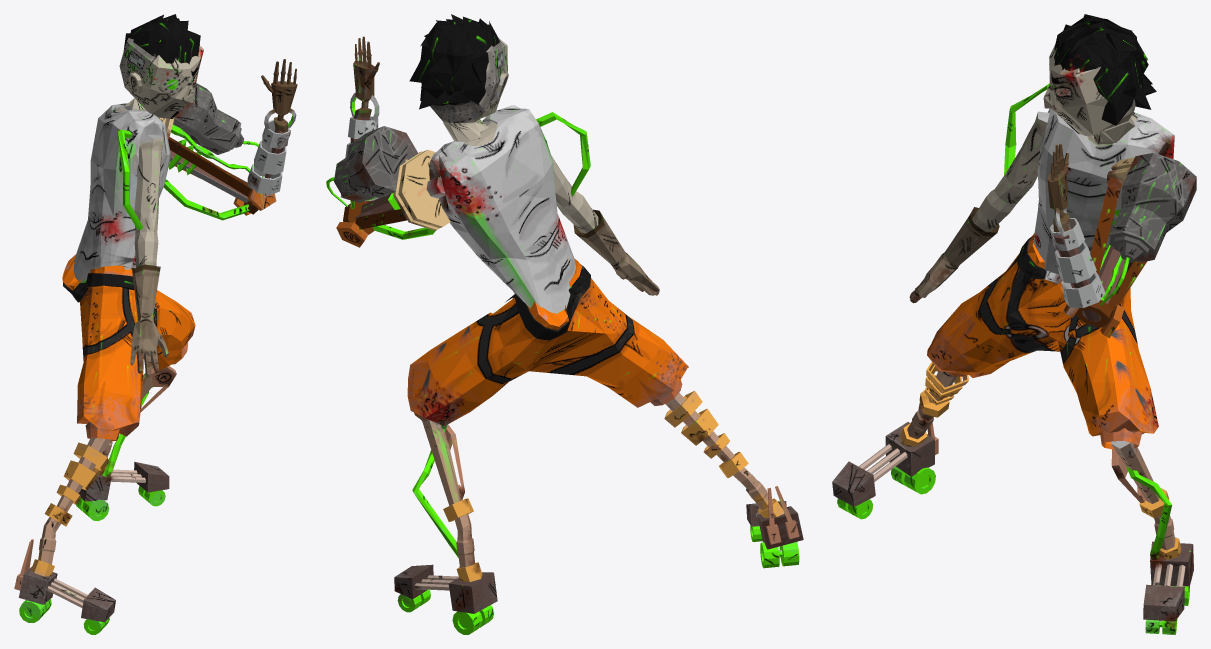
Rendered from CyborgFINALAnimation_000056.obj.
The picture shows the model from 3 angles, left to right: view 1: azimuth 30°, elevation 25°; view 2: azimuth 150°, elevation 25°; view 3: azimuth 270°, elevation 25°; orthographic projection. The views are drawn at different scales.
Parts seen in each view (by area): view 1: CyborgMesh_Cube.002; view 2: CyborgMesh_Cube.002; view 3: CyborgMesh_Cube.002.
Part boxes in pixels (x1,y1,x2,y2): CyborgMesh_Cube.002: (14,14,297,634); CyborgMesh_Cube.002: (326,14,803,634); CyborgMesh_Cube.002: (832,14,1196,634).
Bounding box in the file's own units: 6.04 × 8.65 × 4.7.
